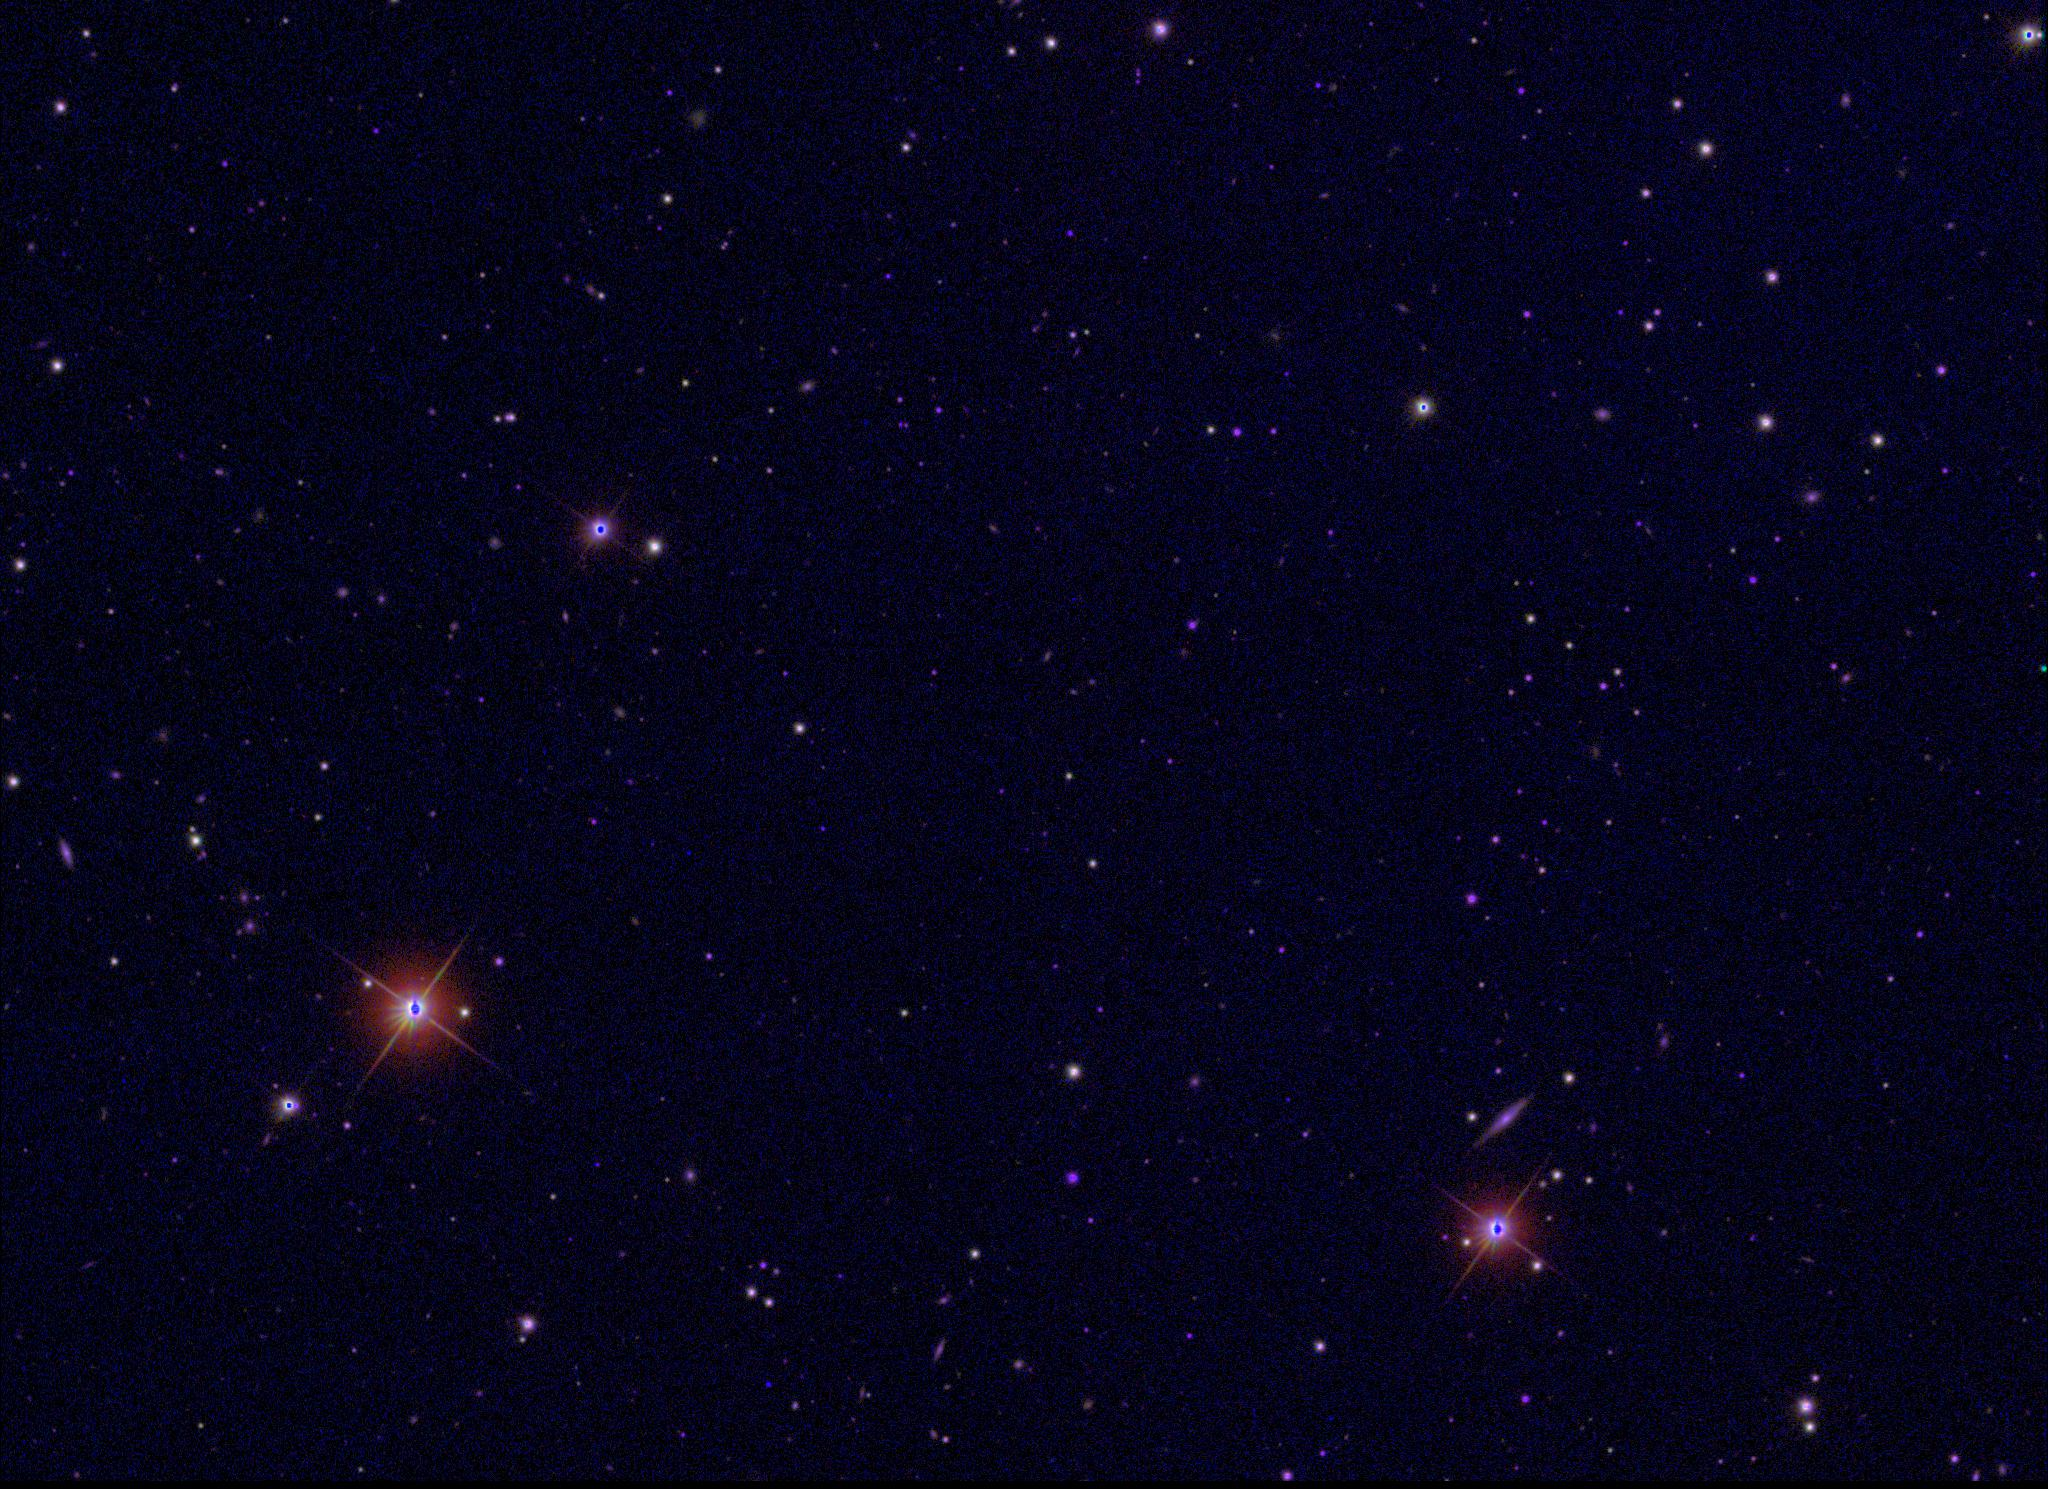L: (760, 1378, 774, 1392)
